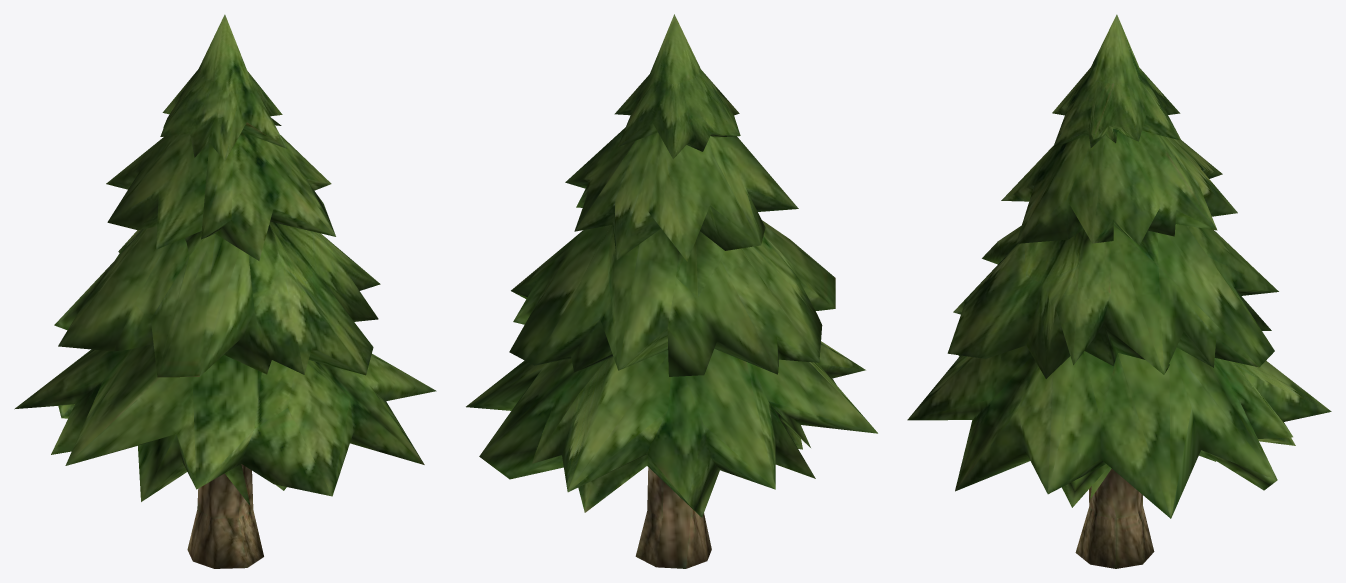
The model's file is tree-pine-02.glb.
3 renders of one model, left to right at view 1: azimuth 30°, elevation 25°; view 2: azimuth 150°, elevation 25°; view 3: azimuth 270°, elevation 25°, orthographic.
Size of the model in its own units: 0.6729 by 0.9531 by 0.6821.
1 material, 1 textured.
